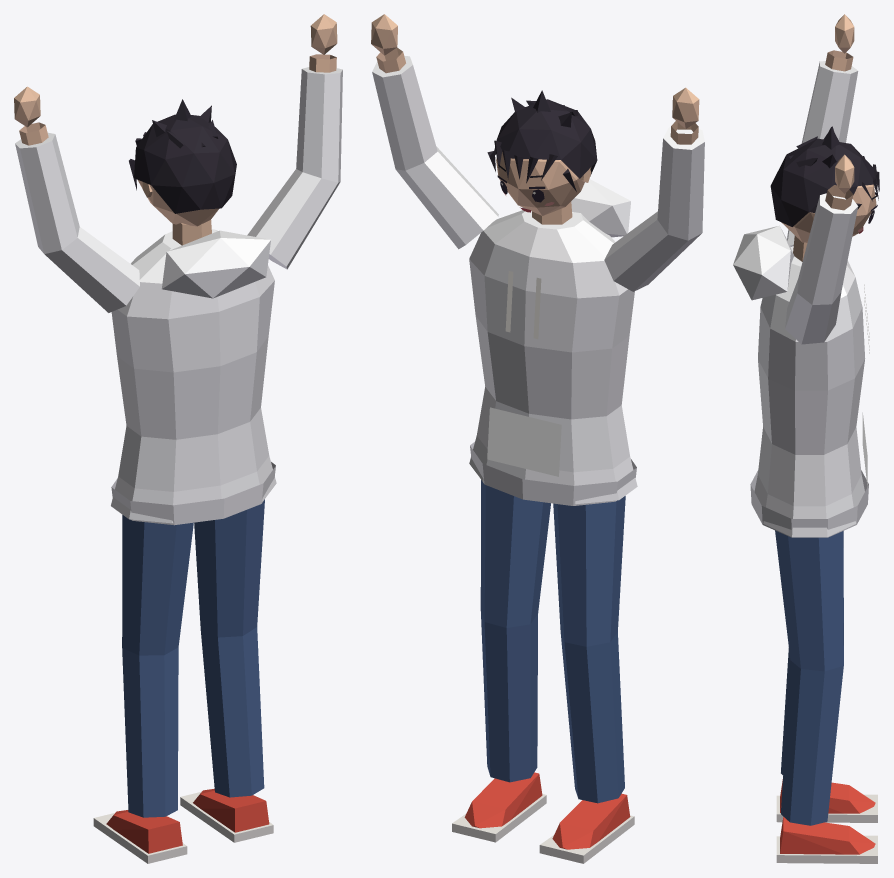
File: spectator_a.glb
3 views of the same model, side by side, from view 1: azimuth 30°, elevation 25°; view 2: azimuth 150°, elevation 25°; view 3: azimuth 270°, elevation 25° (orthographic). The views are drawn at different scales.
Parts seen in each view (by area): view 1: spectator_a; view 2: spectator_a; view 3: spectator_a.
Part boxes in pixels (<box>): spectator_a: <box>14,14,342,863</box>; spectator_a: <box>371,14,704,863</box>; spectator_a: <box>733,14,879,863</box>.
Size of the model in its own units: 0.8218 by 1.88 by 0.334.
